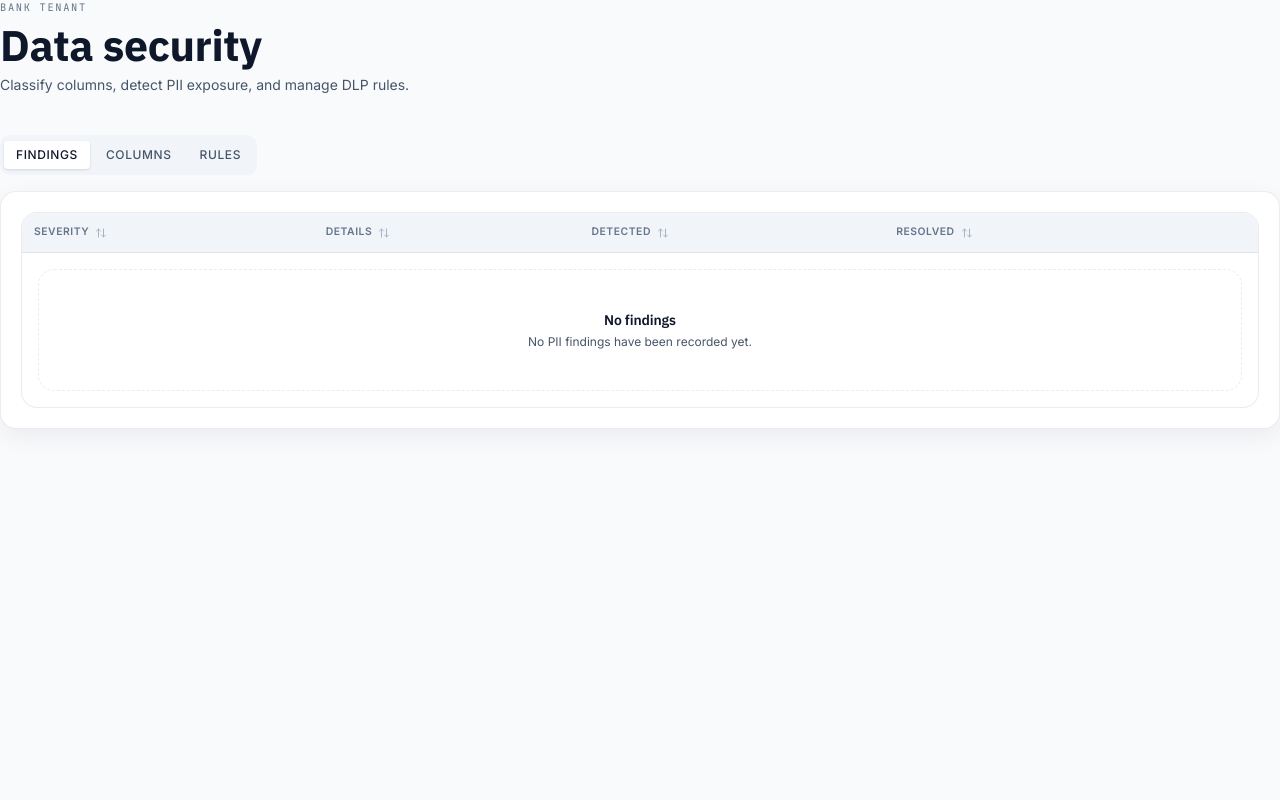
Scenario: DataSecurity › surfaces rule load failures instead of showing a false empty state
Click the tab "Rules" at (220, 155), box [188,141,253,169]
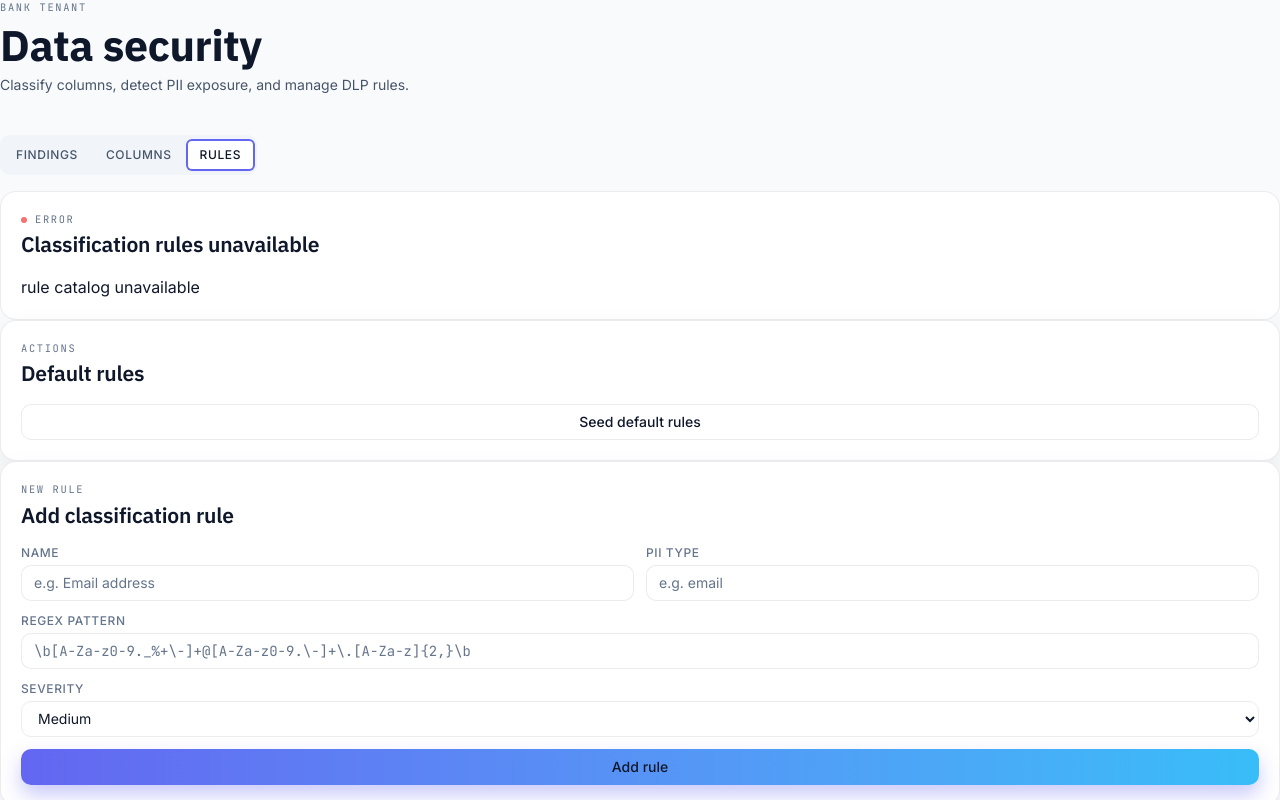
Expected: the heading "Classification rules unavailable" is shown, [21,230,319,258]
Expected: the message reads "rule catalog unavailable", [21,277,200,297]
